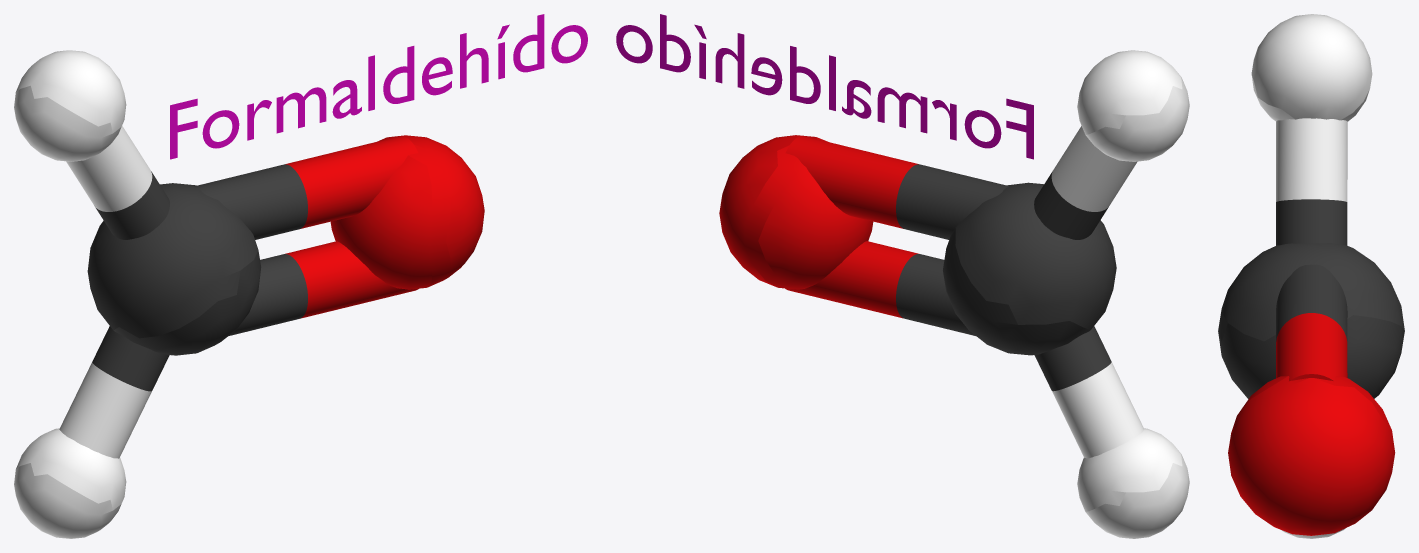
The model's file is formaldehido.glb.
3 views of the same model, side by side, from view 1: azimuth 30°, elevation 25°; view 2: azimuth 150°, elevation 25°; view 3: azimuth 270°, elevation 25° (orthographic). The views are drawn at different scales.
Parts seen in each view (by area): view 1: Shape_IndexedFaceSet.008, Shape_IndexedFaceSet.006, Shape_IndexedFaceSet.013, Text; view 2: Shape_IndexedFaceSet.008, Shape_IndexedFaceSet.006, Shape_IndexedFaceSet.013, Text; view 3: Shape_IndexedFaceSet.013, Shape_IndexedFaceSet.008, Shape_IndexedFaceSet.006.
Part boxes in pixels (x1,y1,x2,y2): Shape_IndexedFaceSet.008: (87, 164, 307, 391); Shape_IndexedFaceSet.006: (14, 50, 152, 538); Shape_IndexedFaceSet.013: (285, 135, 484, 318); Text: (170, 14, 587, 159); Shape_IndexedFaceSet.008: (896, 164, 1116, 391); Shape_IndexedFaceSet.006: (1051, 50, 1189, 538); Shape_IndexedFaceSet.013: (719, 135, 918, 318); Text: (616, 14, 1033, 159); Shape_IndexedFaceSet.013: (1228, 313, 1395, 535); Shape_IndexedFaceSet.008: (1218, 199, 1404, 398); Shape_IndexedFaceSet.006: (1251, 14, 1372, 538).
Size of the model in its own units: 29.4 by 23.77 by 7.82.
